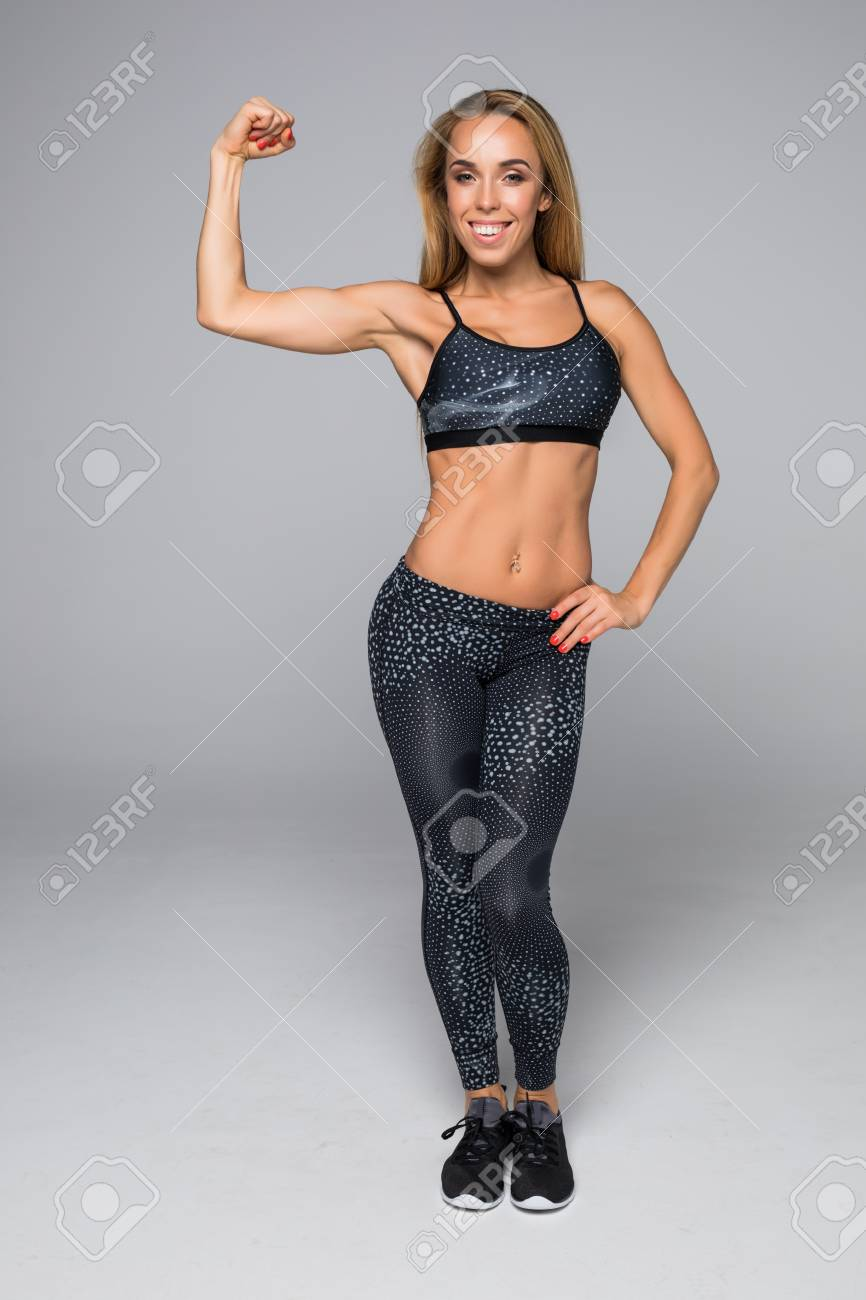person: (334, 98, 684, 586)
